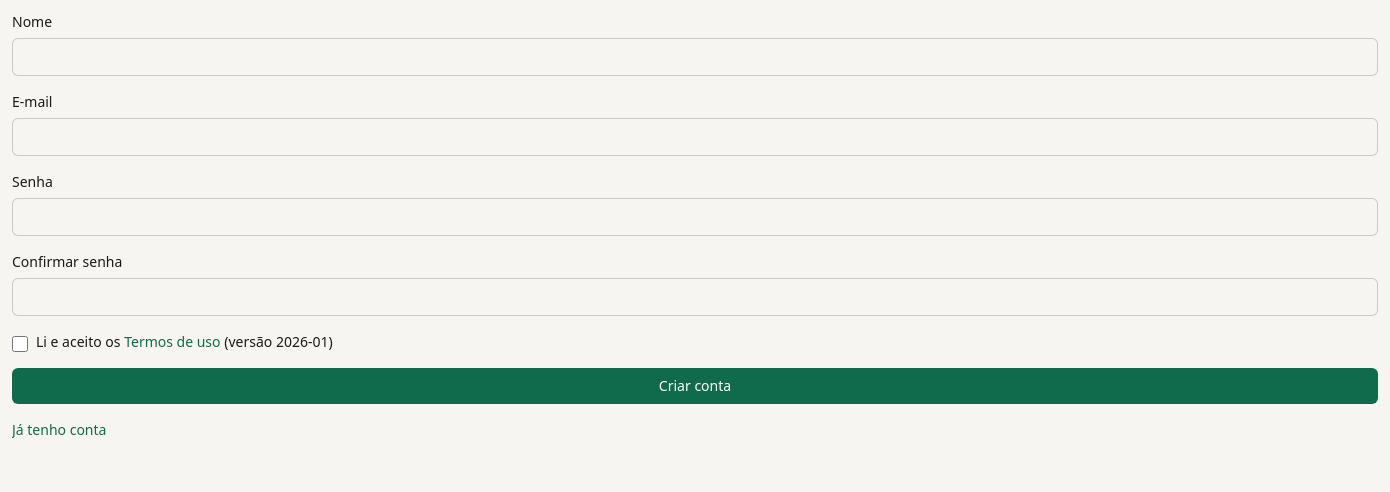
Test: RegisterForm (RGR-05–09, RGR-11, RGR-13, BFFUI-41, BFFUI-32) › shows rate limit message with Retry-After guidance for 429
The width and height of the screenshot is (1390, 492).
Step 1. Type "Ada Lovelace" into the field labelled "Nome" → (695, 57), box x1=12 y1=38 x2=1378 y2=76
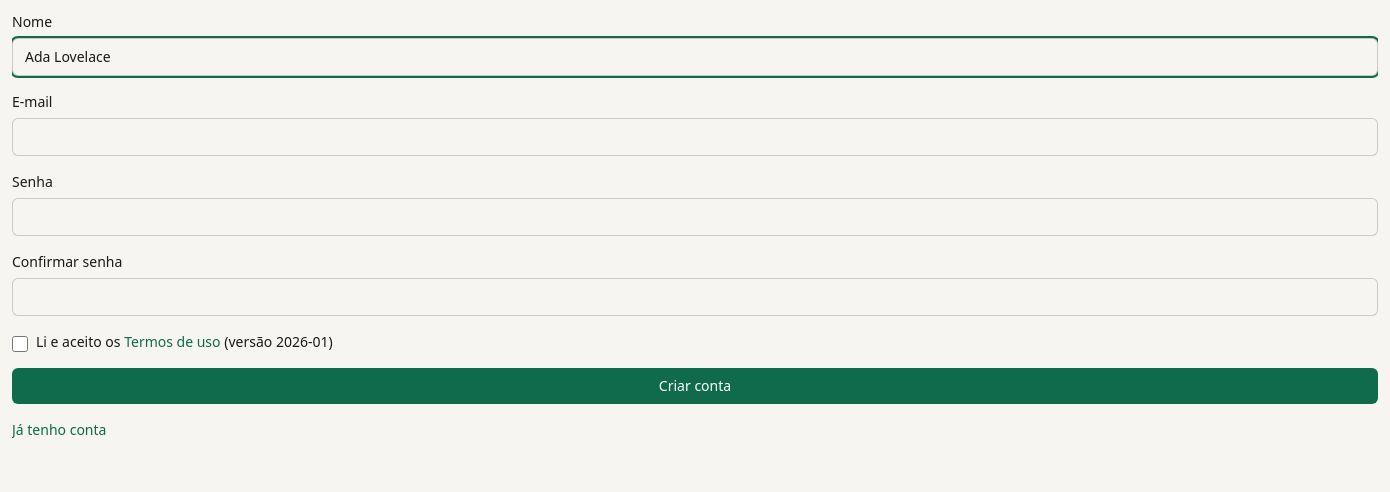
Step 2. Type "ada@example.com" into the field labelled "E-mail" → (695, 137), box x1=12 y1=118 x2=1378 y2=156
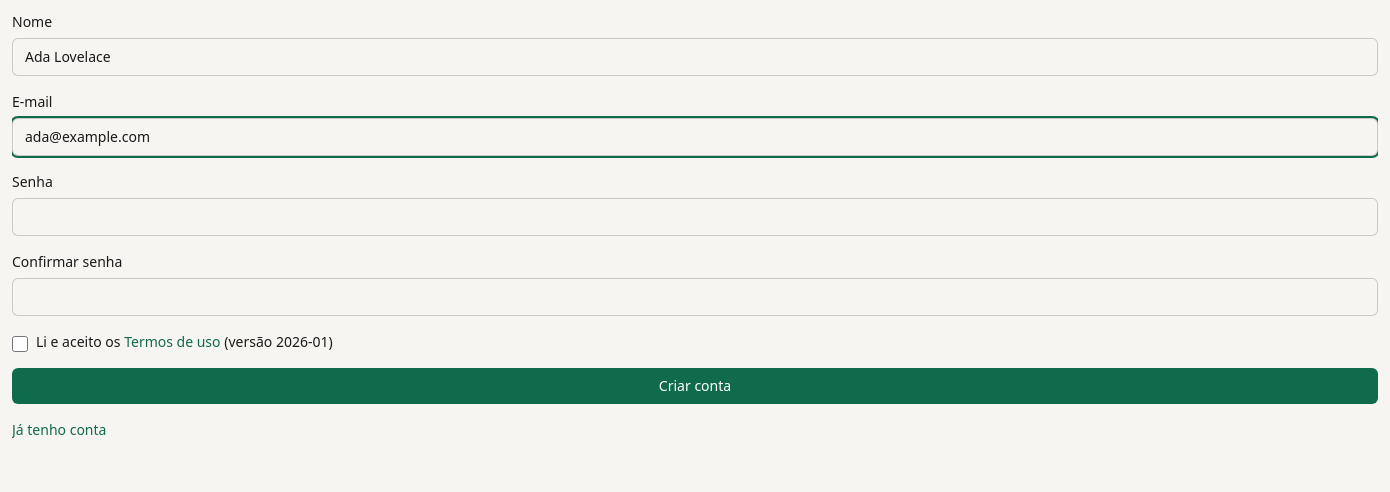
Step 3. Type "Abcdefghij1!" into the password field labelled "Senha" → (695, 217), box x1=12 y1=198 x2=1378 y2=236
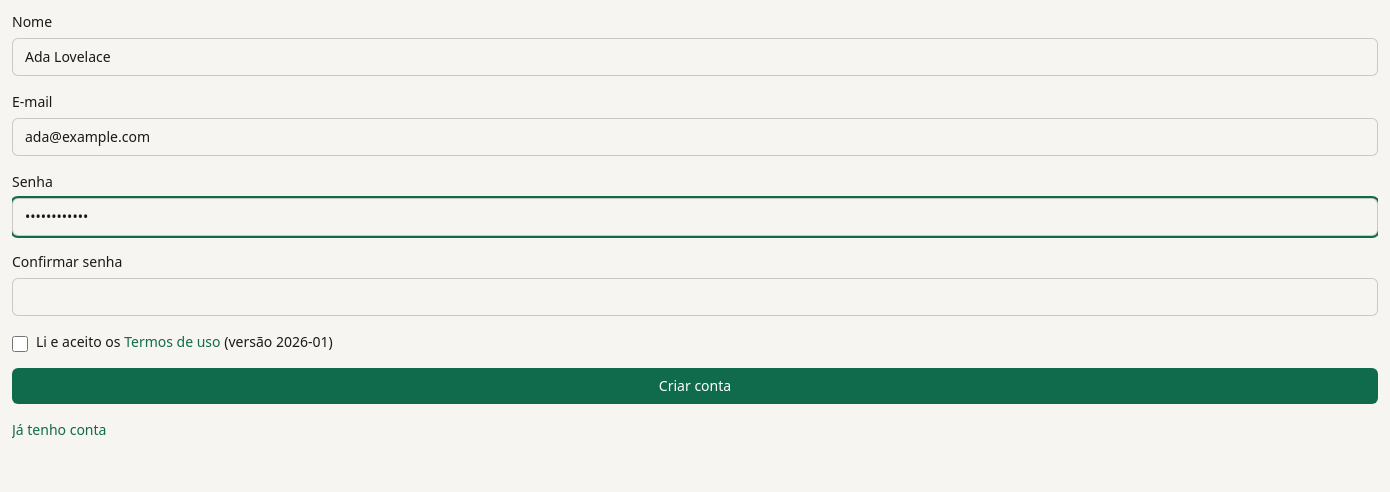
Step 4. Type "Abcdefghij1!" into the password field labelled "Confirmar senha" → (695, 297), box x1=12 y1=278 x2=1378 y2=316
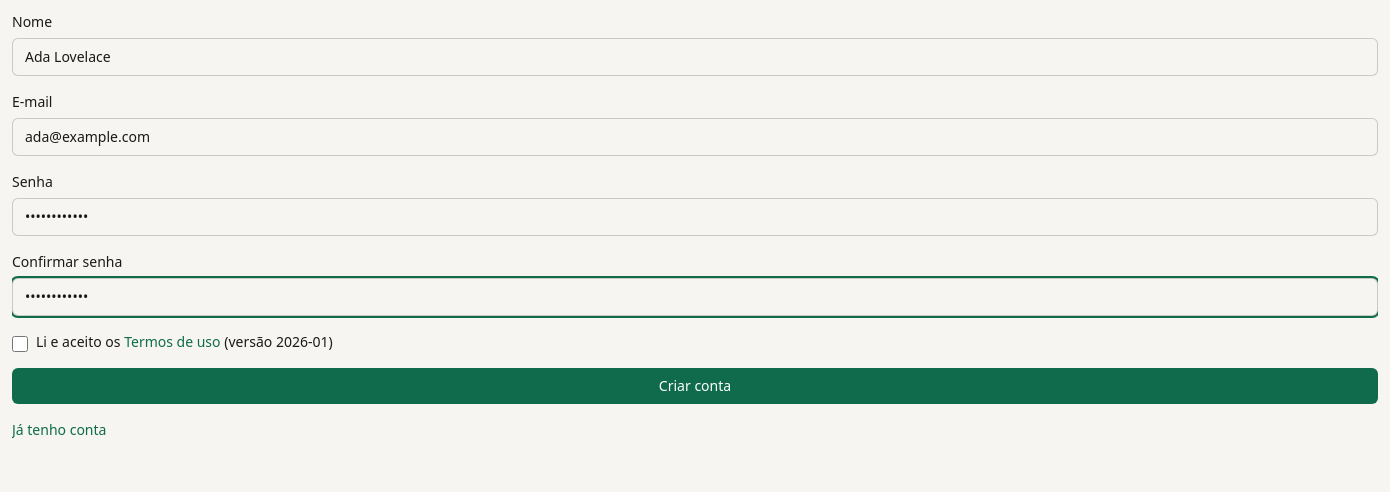
Step 5. Click the checkbox → (20, 344), box x1=12 y1=336 x2=28 y2=352
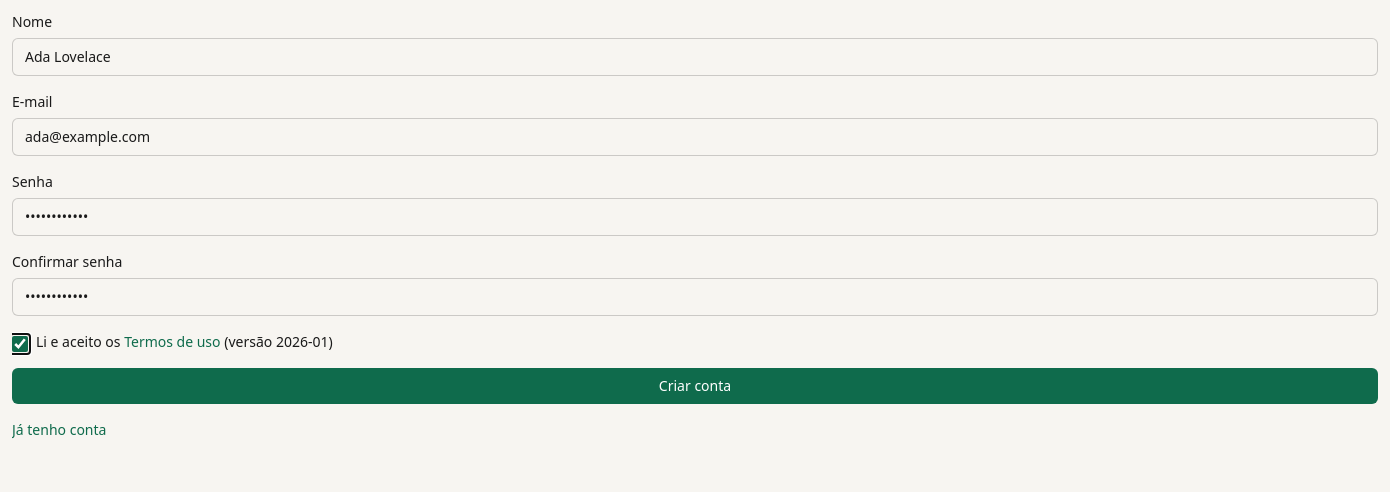
Step 6. Click the button "Criar conta" → (695, 386), box x1=12 y1=368 x2=1378 y2=404
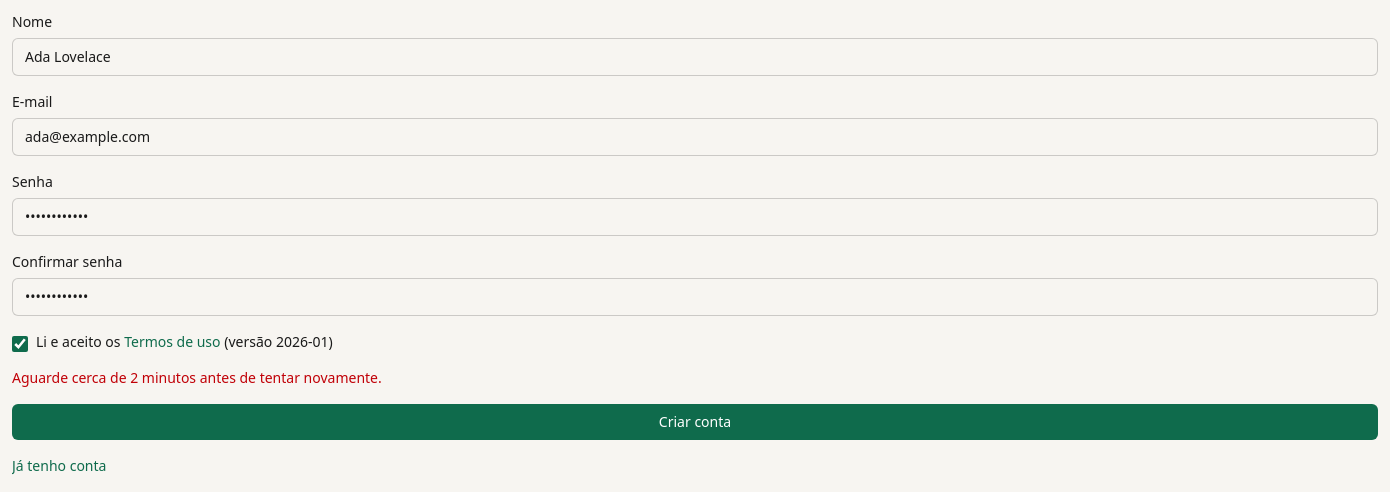
Expected: the message reads "Aguarde cerca de 2 minutos antes de tentar novamente.", x1=12 y1=368 x2=382 y2=387
